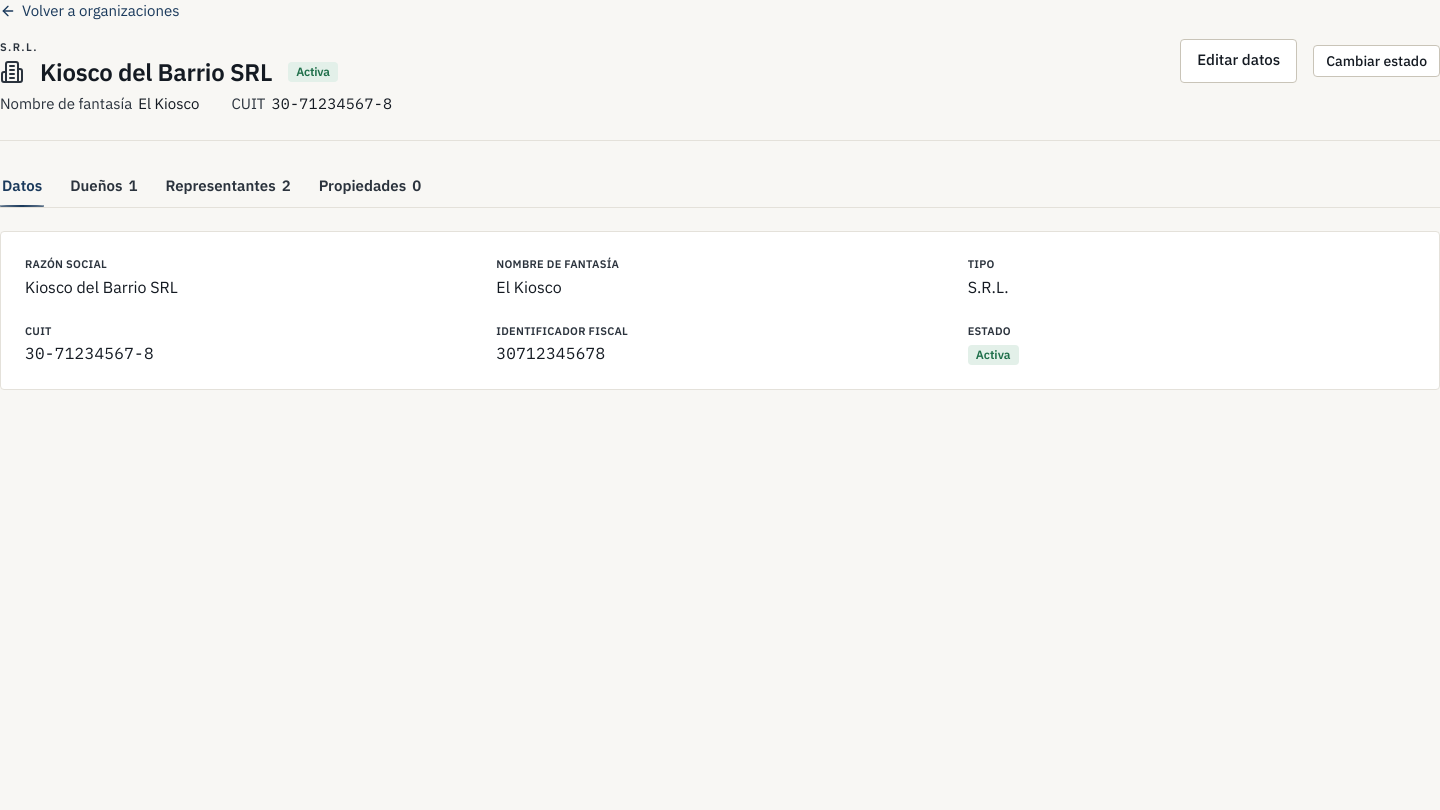
Test: dueños › cediendo, el porcentaje deja de ser opcional
Click the tab "Dueños1" at (104, 186), box [68,164,139,207]
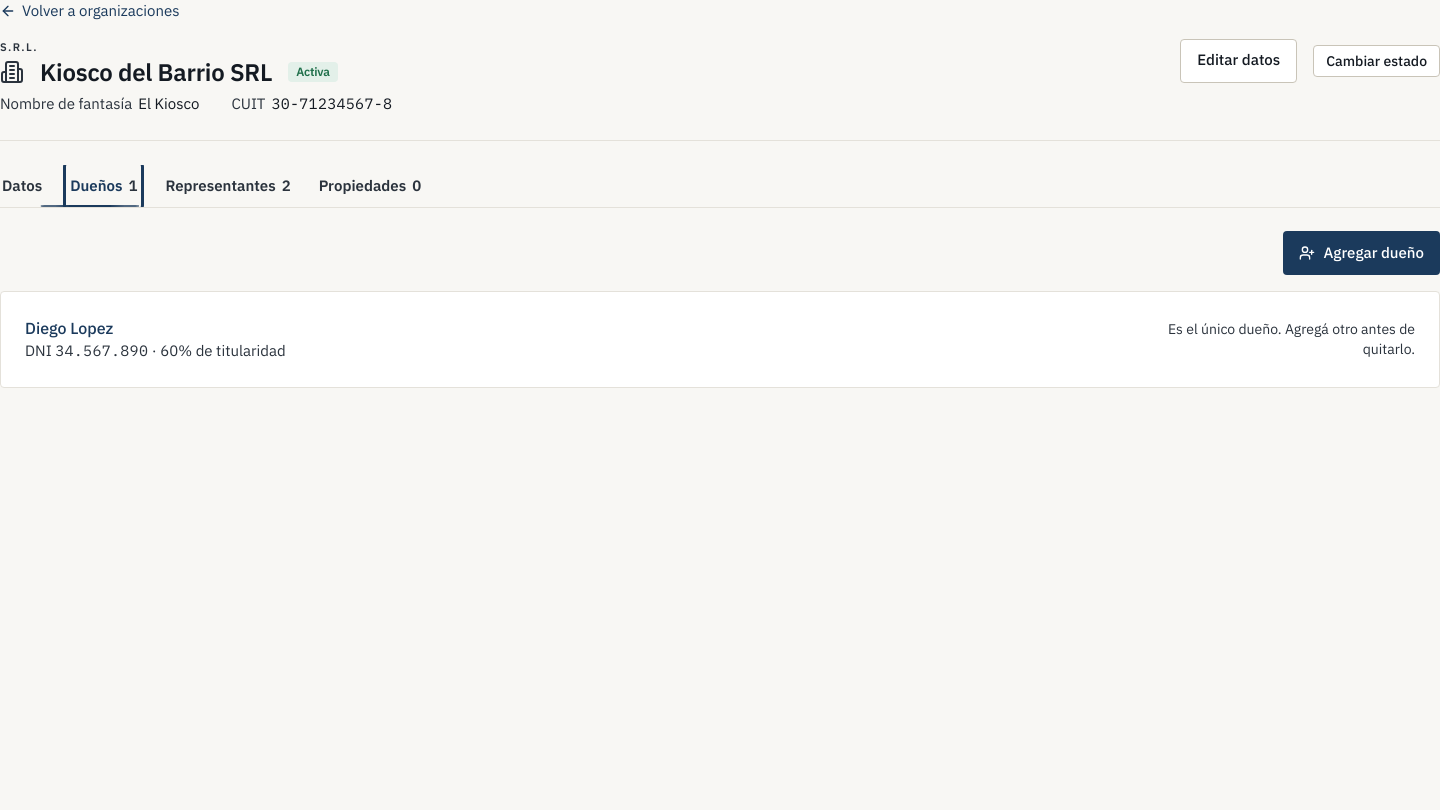
Click the button "Agregar dueño" at (1362, 253), box [1283,231,1439,275]
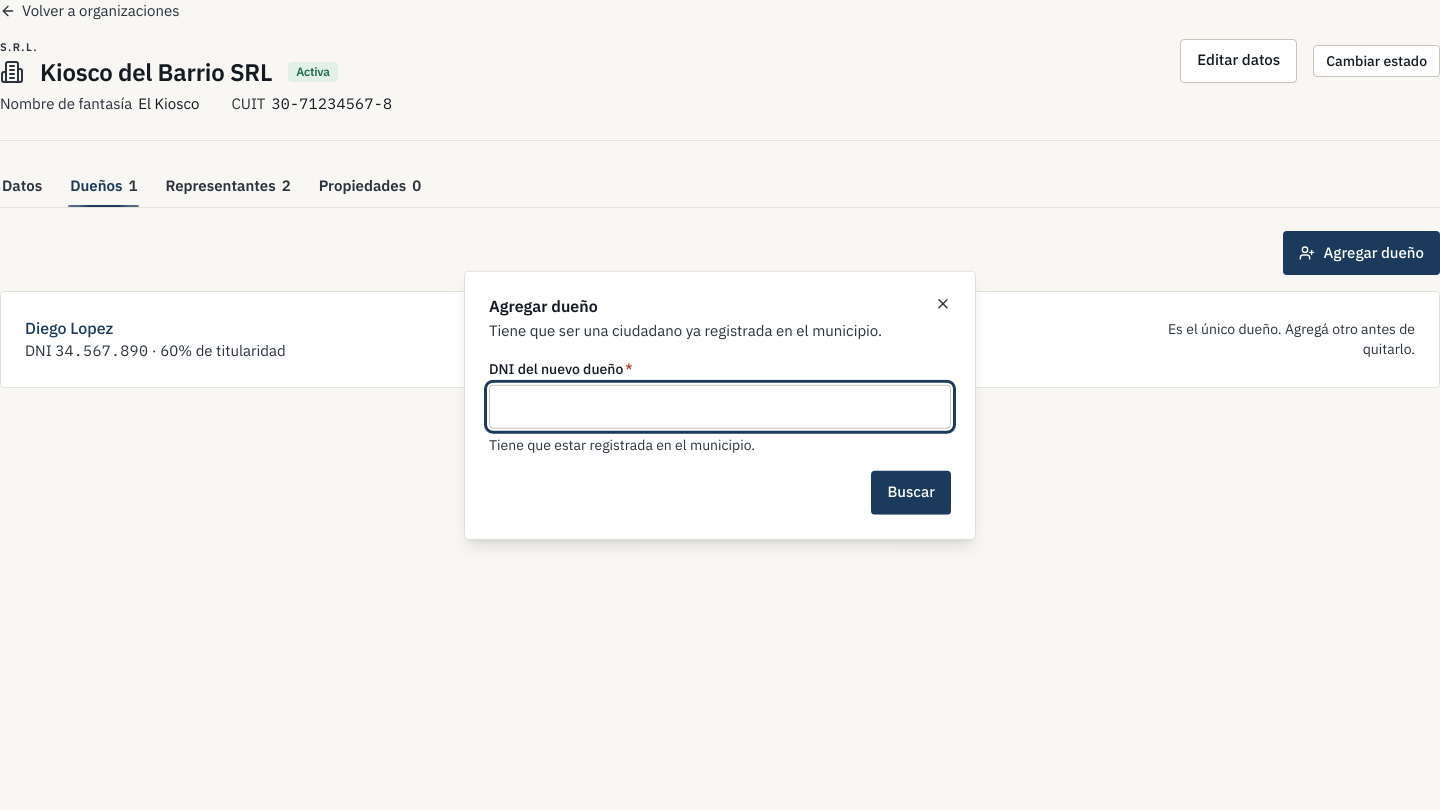
Type "40123456" into the field labelled "DNI del nuevo dueño" at (720, 406), box [489,384,951,428]
Click the button "Buscar" at (911, 492), box [871,470,951,514]
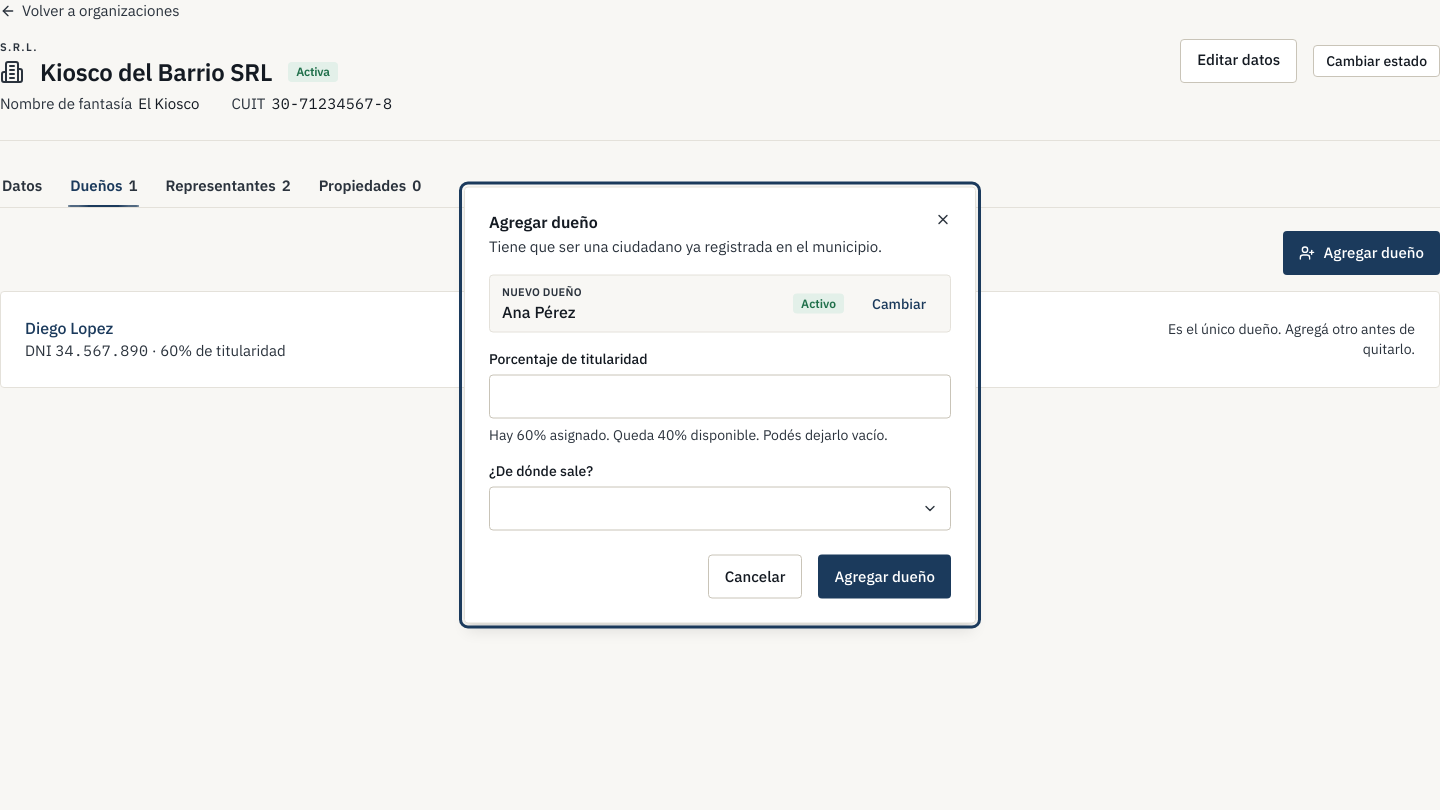
Now the number field labelled "Porcentaje de titularidad" is shown, box [489,374,951,418]
Press the mouse on the dropdown named "¿De dónde sale?" at (930, 508), box [489,486,951,530]
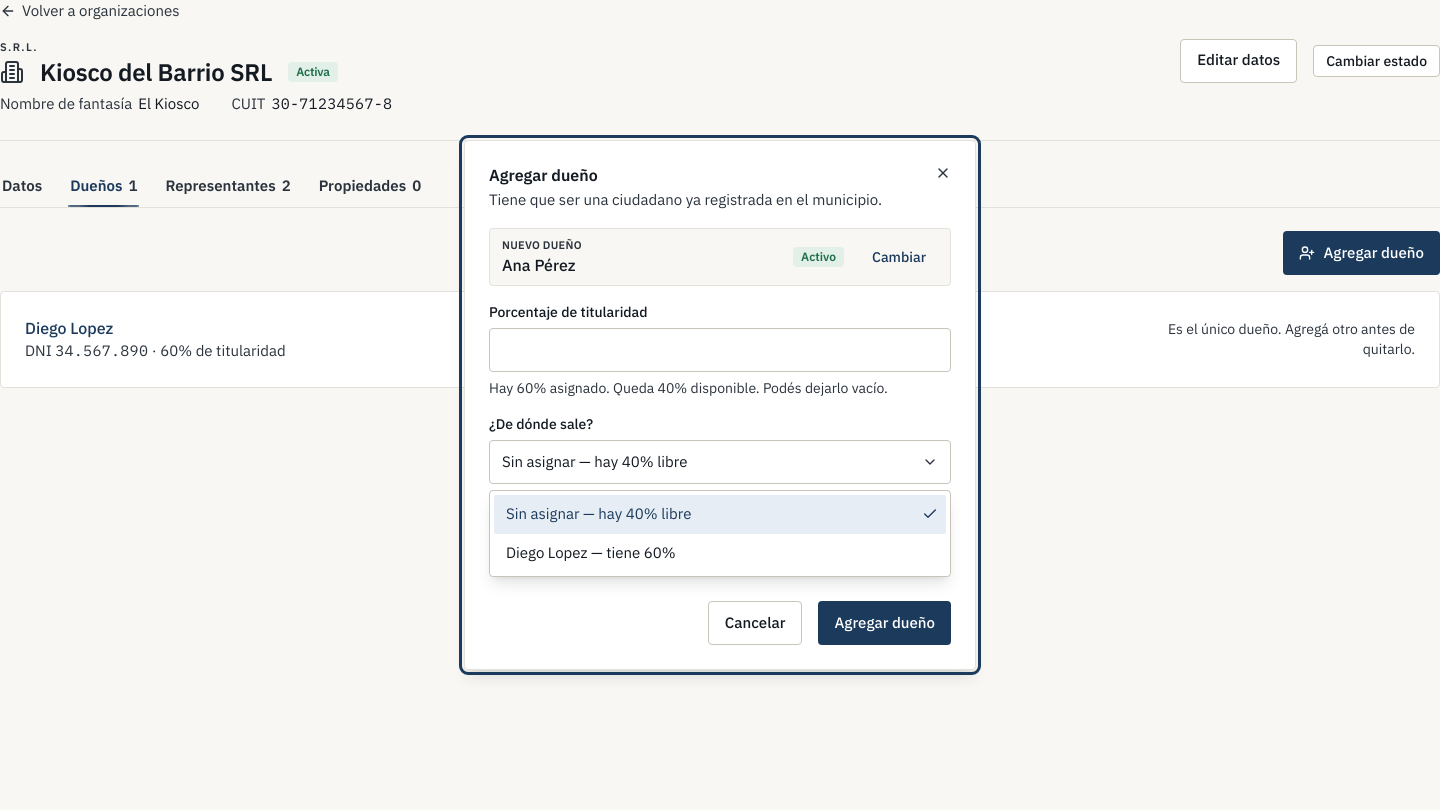
Click the option "Diego Lopez — tiene 60%" at (591, 552), box [506,542,676,562]
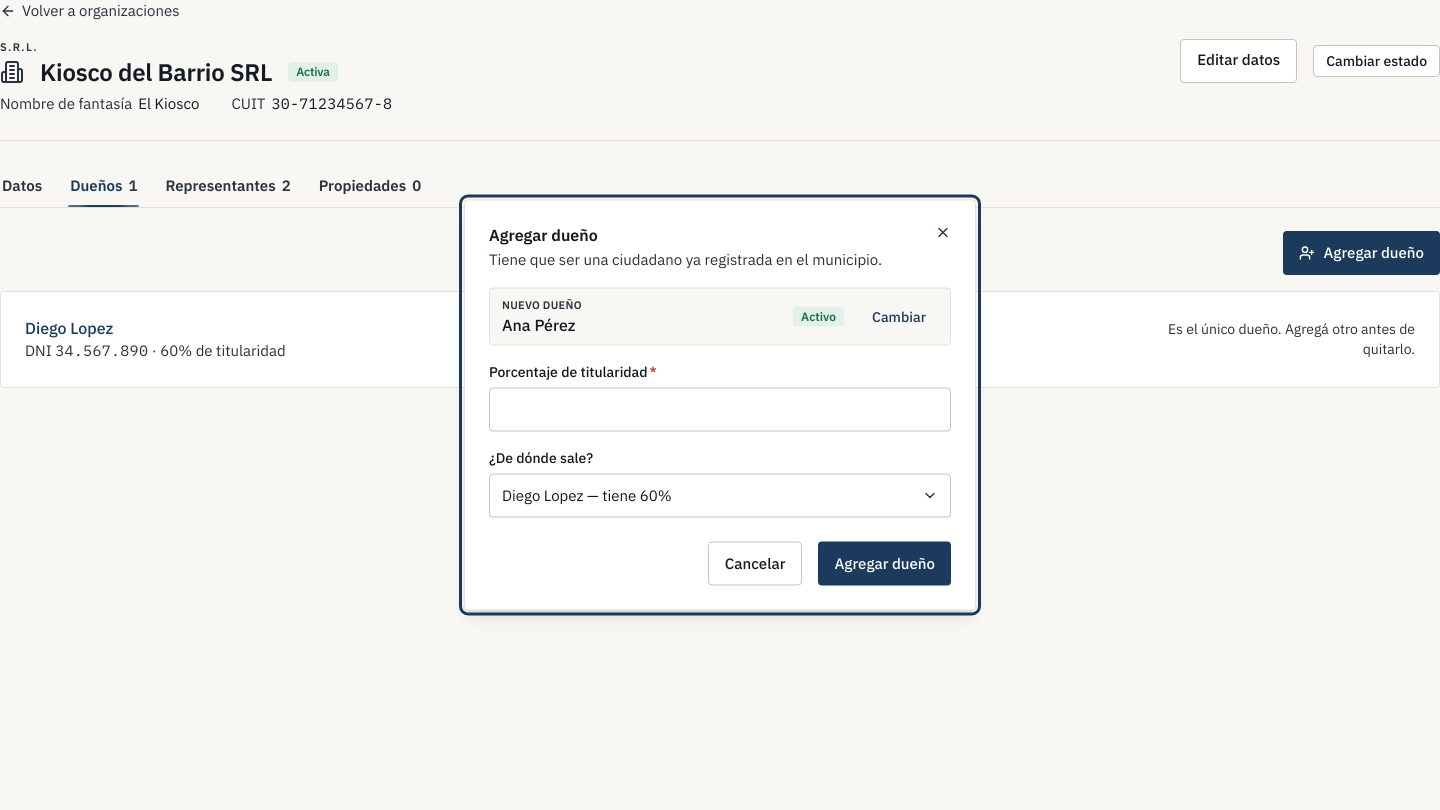
Click the button "Agregar dueño" at (885, 564), box [818,542,951,586]
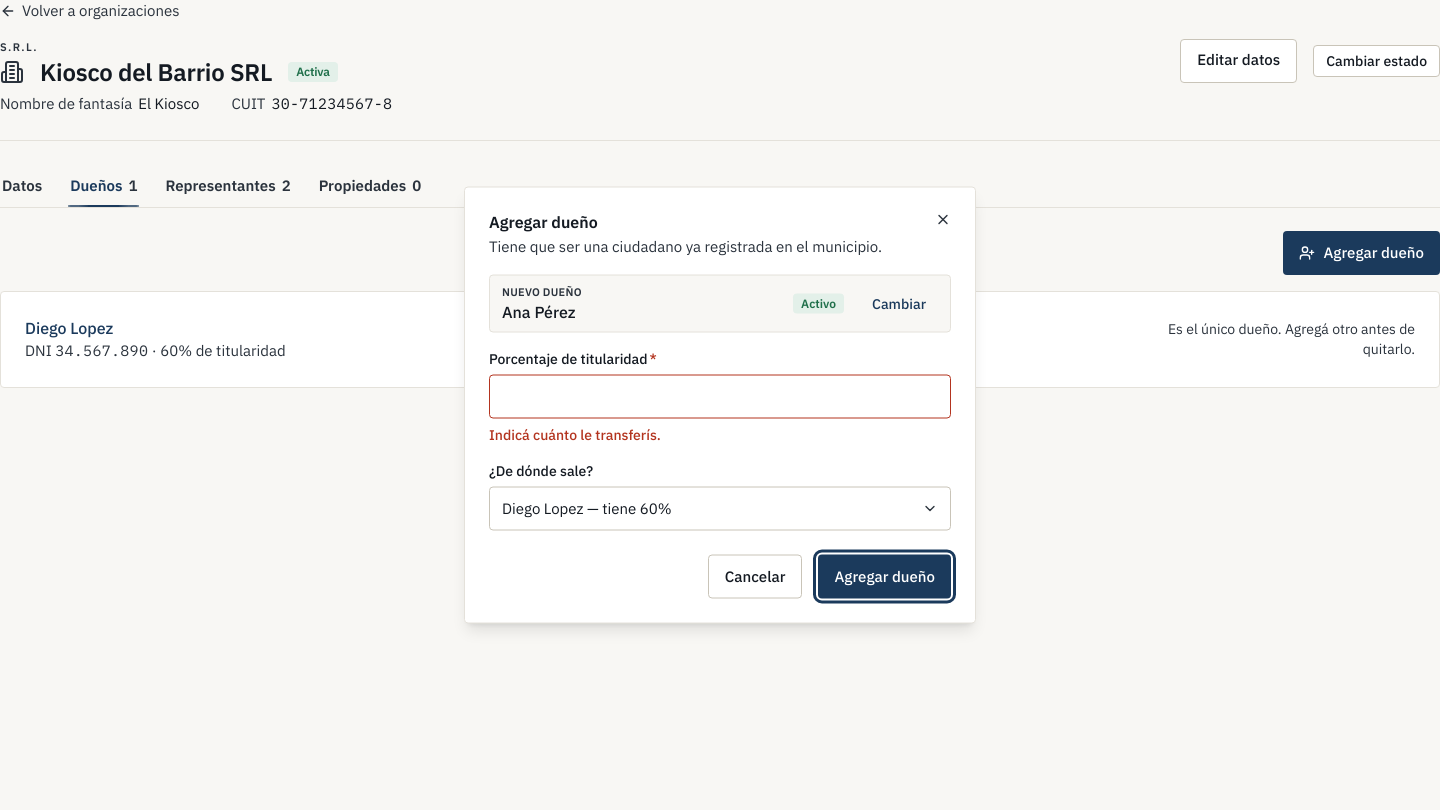
Now the text "Indicá cuánto le transferís." is shown, box [489,426,661,444]
